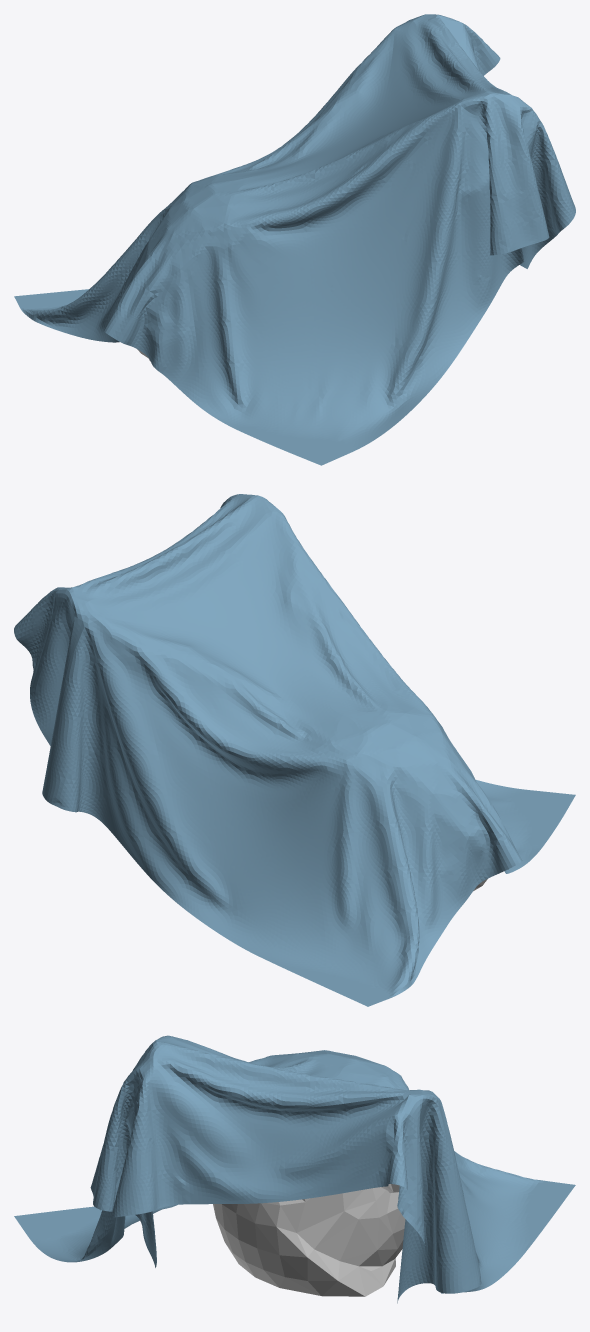
Rendered from level_3.glb.
The picture shows the model from 3 angles, top to bottom: view 1: azimuth 30°, elevation 25°; view 2: azimuth 150°, elevation 25°; view 3: azimuth 270°, elevation 25°; orthographic projection. The views are drawn at different scales.
Parts seen in each view (by area): view 1: world; view 2: world; view 3: world, object.obj.
Part boxes in pixels (x1=…): world: x1=14, y1=14, x2=575, y2=465; world: x1=14, y1=494, x2=575, y2=1006; world: x1=14, y1=1035, x2=575, y2=1303; object.obj: x1=213, y1=1184, x2=405, y2=1296.
Bounding box in the file's own units: 0.4918 × 0.2919 × 0.4936.
